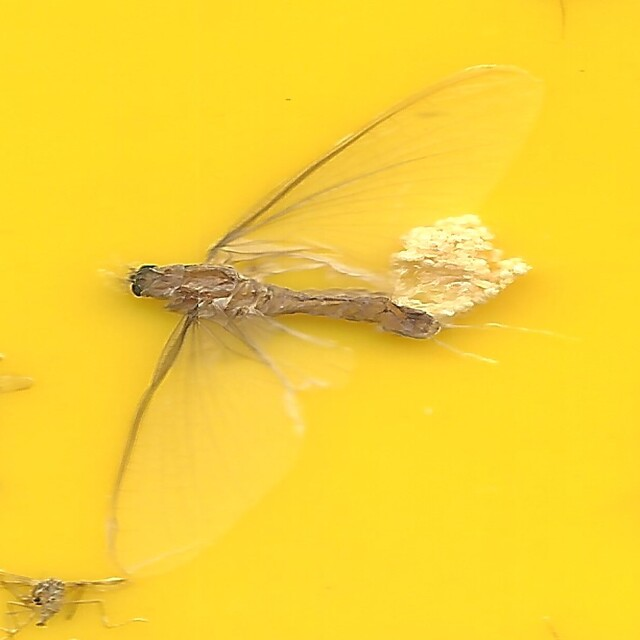Ephemeroptera: (104, 69, 536, 571)
